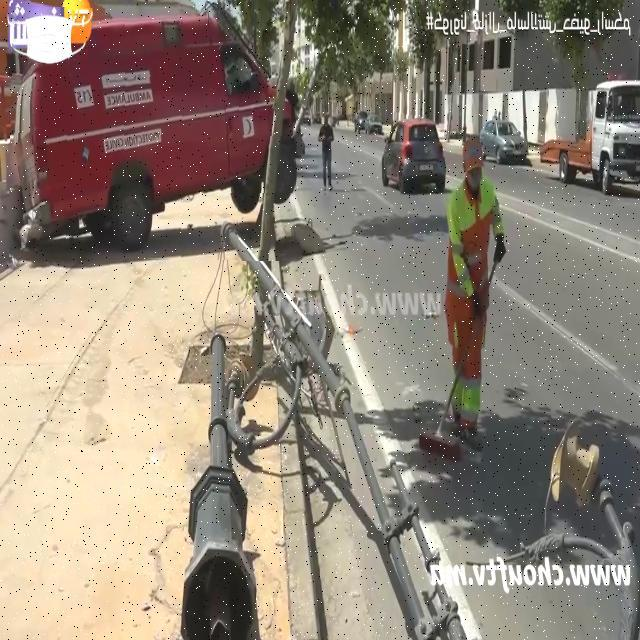ambulance: (10, 8, 297, 260)
